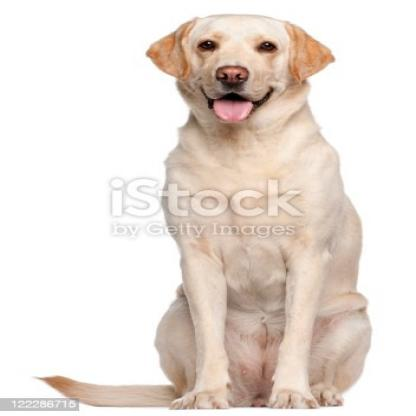dog: (38, 13, 374, 407)
